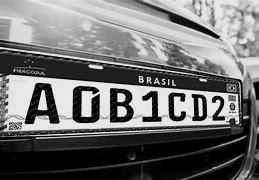placa_mercosul: (0, 47, 242, 133)
